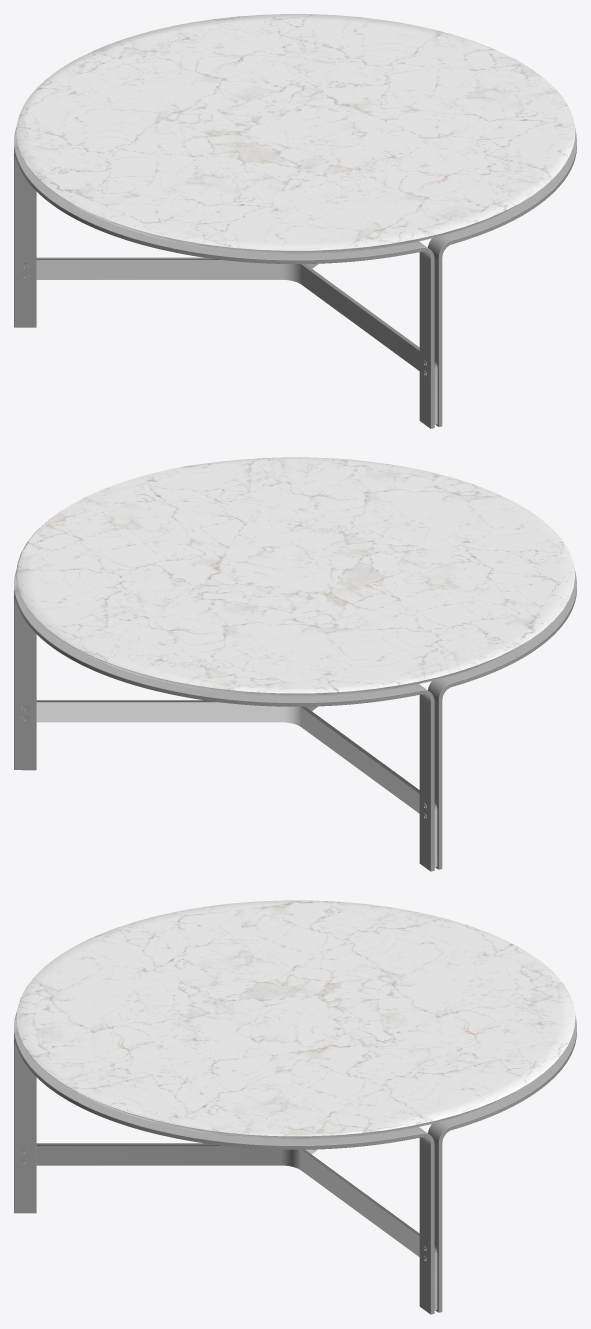
Rendered from clarke.gltf.
3 renders of one model, top to bottom at view 1: azimuth 30°, elevation 25°; view 2: azimuth 150°, elevation 25°; view 3: azimuth 270°, elevation 25°, orthographic.
Visible parts, largest first — view 1: clarke_100; view 2: clarke_100; view 3: clarke_100.
Part boxes in pixels (<box>): clarke_100: <box>14,14,576,428</box>; clarke_100: <box>14,457,576,871</box>; clarke_100: <box>14,900,576,1314</box>.
Size of the model in its own units: 1 by 0.3796 by 1.
1 material, 1 textured.
